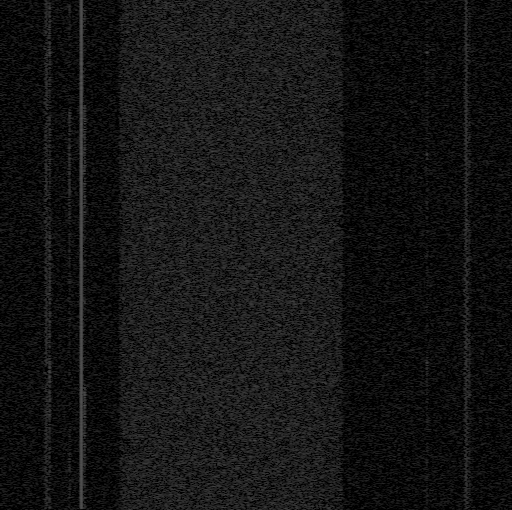wv_am: (78, 0, 84, 509)
wv_dvbt_8kfft: (109, 0, 347, 510)
wv_lsb: (47, 340, 52, 509), (47, 221, 52, 339), (467, 326, 472, 443), (67, 372, 72, 476), (67, 125, 72, 219), (467, 96, 472, 187), (467, 214, 472, 304), (47, 2, 53, 58), (47, 149, 52, 215), (467, 444, 472, 509), (67, 220, 72, 278), (467, 3, 472, 59), (47, 67, 52, 110), (67, 279, 72, 315), (67, 4, 72, 39), (67, 332, 72, 365), (67, 477, 72, 502), (47, 111, 52, 133), (67, 103, 72, 124), (467, 68, 472, 83), (47, 134, 52, 148), (67, 316, 72, 329), (67, 59, 72, 71), (467, 314, 472, 325), (68, 85, 72, 98), (67, 48, 72, 58), (467, 188, 471, 200), (467, 84, 471, 95), (467, 305, 472, 313), (68, 72, 71, 84), (67, 40, 72, 47), (47, 59, 52, 66), (467, 60, 472, 67), (67, 503, 72, 509), (467, 207, 471, 213), (67, 367, 72, 371), (47, 216, 52, 220), (467, 201, 471, 206)
wv_usb: (82, 376, 88, 456), (82, 145, 87, 232), (424, 24, 430, 80), (82, 277, 87, 344), (82, 5, 87, 57), (424, 354, 430, 395), (82, 100, 87, 144), (82, 468, 87, 509), (425, 424, 429, 467), (425, 201, 429, 237), (425, 161, 429, 193), (425, 117, 429, 147), (425, 266, 429, 295), (425, 468, 429, 497), (425, 81, 429, 103), (425, 401, 429, 423), (425, 1, 430, 18), (82, 242, 87, 259), (425, 296, 429, 316), (425, 245, 429, 265), (83, 68, 87, 87), (424, 149, 430, 160), (83, 345, 87, 361), (82, 457, 87, 467), (82, 260, 87, 270), (425, 104, 429, 116), (82, 233, 87, 241), (425, 320, 429, 328), (425, 343, 429, 351), (425, 334, 429, 342), (425, 502, 429, 509), (83, 362, 87, 369), (425, 238, 429, 244), (425, 194, 429, 200), (83, 271, 87, 276), (83, 94, 87, 99), (425, 19, 429, 23), (425, 396, 429, 400), (425, 330, 429, 333), (425, 498, 429, 501), (83, 64, 86, 67), (83, 58, 86, 61)
wv_wbfm: (462, 0, 471, 509), (42, 0, 51, 204), (42, 206, 51, 370), (42, 380, 51, 509), (42, 370, 51, 376), (42, 376, 51, 380)
